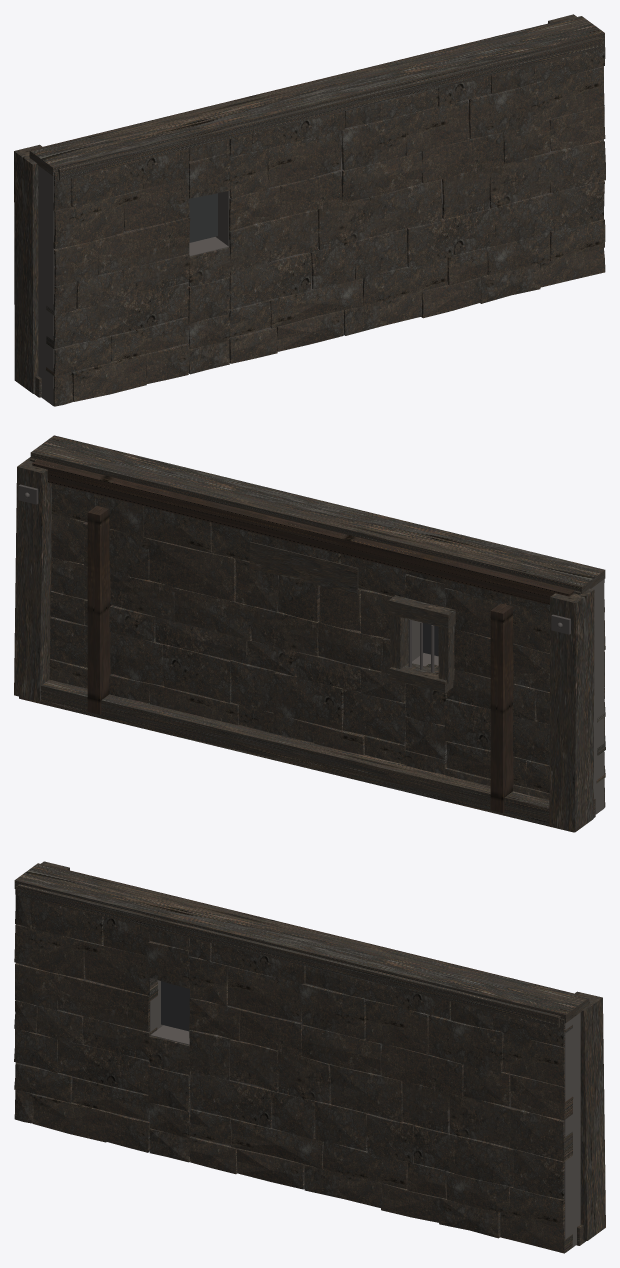
File: wall_rear_preview.glb
3 views of the same model, one above another, from view 1: azimuth 30°, elevation 25°; view 2: azimuth 150°, elevation 25°; view 3: azimuth 330°, elevation 25° (orthographic).
Parts seen in each view (by area): view 1: GENESIS_BATCH_Quarry basalt / dark warm PBR, GENESIS_BATCH_Soot deposits - char and oxide, GENESIS_BATCH_Basalt - mineral warm variance, GENESIS_BATCH_Blackened ironstone coping / dark scanned, GENESIS_BATCH_Recessed stone mortar / dark, GENESIS_BATCH_Blacksmith · soot-stained grille backgroun, GENESIS_BATCH_Oak / fire seasoned PBR; view 2: GENESIS_BATCH_Quarry basalt / dark warm PBR, GENESIS_BATCH_Basalt - mineral warm variance, GENESIS_BATCH_Soot deposits - char and oxide, GENESIS_BATCH_Oak / fire seasoned PBR, GENESIS_BATCH_Blackened ironstone coping / dark scanned, GENESIS_BATCH_Recessed stone mortar / dark, GENESIS_BATCH_Oxidized forged iron; view 3: GENESIS_BATCH_Quarry basalt / dark warm PBR, GENESIS_BATCH_Soot deposits - char and oxide, GENESIS_BATCH_Basalt - mineral warm variance, GENESIS_BATCH_Blackened ironstone coping / dark scanned, GENESIS_BATCH_Recessed stone mortar / dark, GENESIS_BATCH_Blacksmith · soot-stained grille backgroun, GENESIS_BATCH_Oak / fire seasoned PBR.
Boxes of the visible parts, left/top/right/bottom form: GENESIS_BATCH_Quarry basalt / dark warm PBR: left=29, top=38, right=605, bottom=401; GENESIS_BATCH_Soot deposits - char and oxide: left=38, top=65, right=605, bottom=349; GENESIS_BATCH_Basalt - mineral warm variance: left=14, top=14, right=605, bottom=406; GENESIS_BATCH_Blackened ironstone coping / dark scanned: left=29, top=16, right=604, bottom=180; GENESIS_BATCH_Recessed stone mortar / dark: left=38, top=66, right=603, bottom=406; GENESIS_BATCH_Blacksmith · soot-stained grille backgroun: left=189, top=193, right=217, bottom=242; GENESIS_BATCH_Oak / fire seasoned PBR: left=31, top=18, right=568, bottom=150; GENESIS_BATCH_Quarry basalt / dark warm PBR: left=19, top=458, right=605, bottom=832; GENESIS_BATCH_Basalt - mineral warm variance: left=14, top=457, right=605, bottom=832; GENESIS_BATCH_Soot deposits - char and oxide: left=148, top=522, right=605, bottom=799; GENESIS_BATCH_Oak / fire seasoned PBR: left=32, top=459, right=574, bottom=812; GENESIS_BATCH_Blackened ironstone coping / dark scanned: left=30, top=435, right=605, bottom=593; GENESIS_BATCH_Recessed stone mortar / dark: left=412, top=579, right=604, bottom=814; GENESIS_BATCH_Oxidized forged iron: left=18, top=484, right=570, bottom=672; GENESIS_BATCH_Quarry basalt / dark warm PBR: left=14, top=886, right=589, bottom=1245; GENESIS_BATCH_Soot deposits - char and oxide: left=14, top=928, right=572, bottom=1253; GENESIS_BATCH_Basalt - mineral warm variance: left=14, top=861, right=605, bottom=1240; GENESIS_BATCH_Blackened ironstone coping / dark scanned: left=14, top=863, right=589, bottom=1027; GENESIS_BATCH_Recessed stone mortar / dark: left=15, top=939, right=580, bottom=1252; GENESIS_BATCH_Blacksmith · soot-stained grille backgroun: left=161, top=981, right=189, bottom=1031; GENESIS_BATCH_Oak / fire seasoned PBR: left=50, top=866, right=587, bottom=997.
Bounding box in the file's own units: 8.05 × 3.28 × 0.9872.
Materials: 8 (5 with a texture image).
